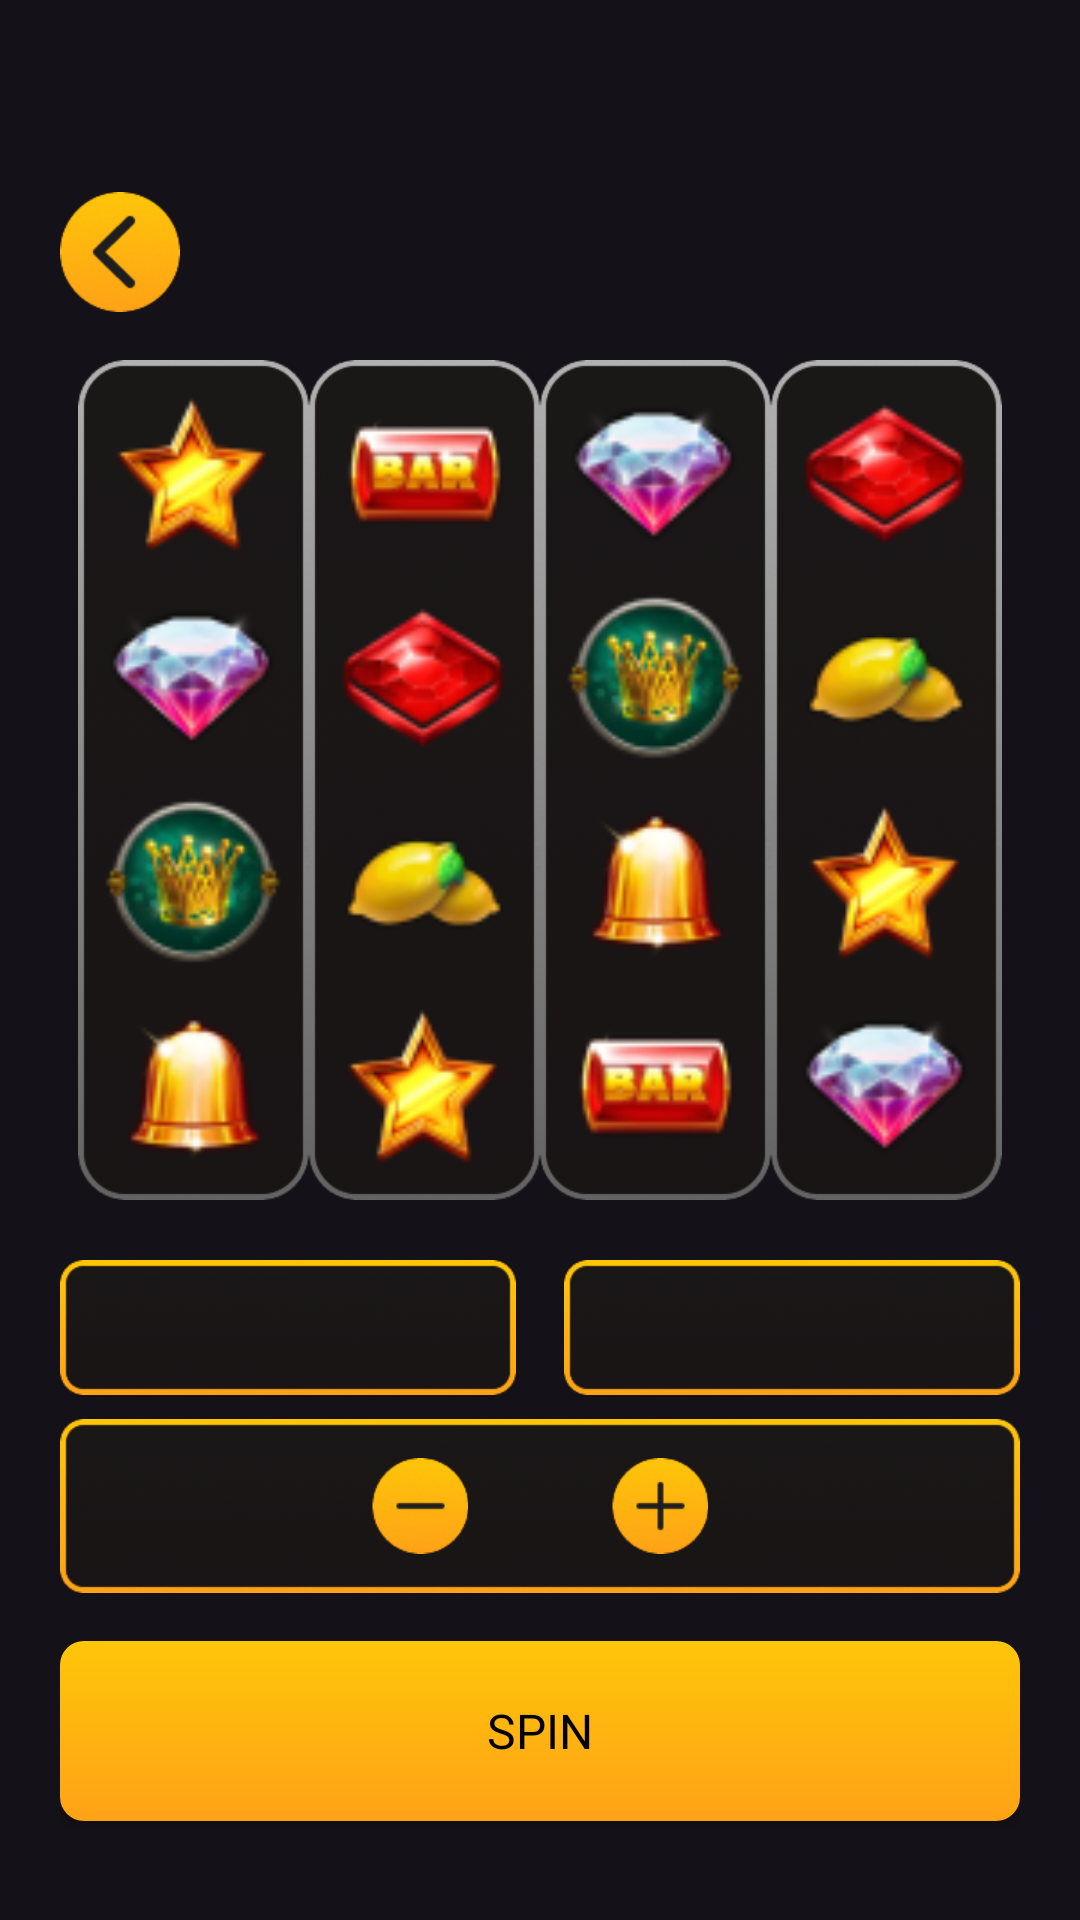

Screen size 1080 × 1920. Icon name, then its box in pixels as (x1, y1, x2, y2):
butt minus: (372, 1458, 468, 1554)
butt plus: (612, 1458, 708, 1554)
ripple butt back: (60, 192, 180, 312)
